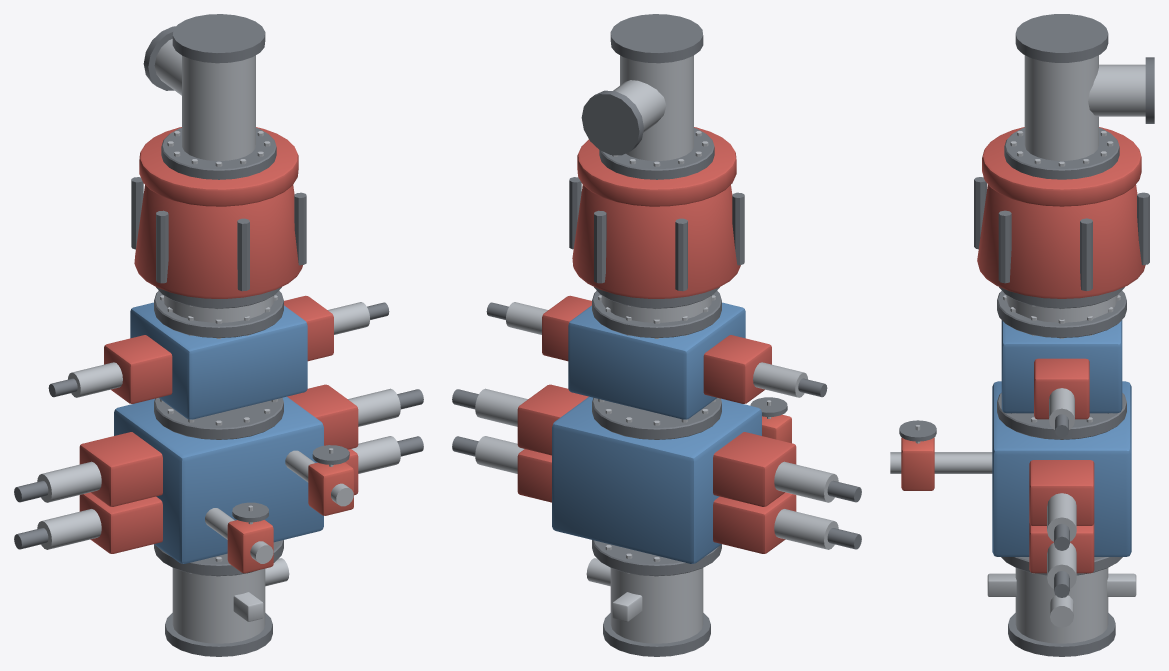
File: bop.glb
3 views of the same model, side by side, from view 1: azimuth 30°, elevation 25°; view 2: azimuth 150°, elevation 25°; view 3: azimuth 270°, elevation 25° (orthographic).
Parts seen in each view (by area): view 1: bop; view 2: bop; view 3: bop.
Part boxes in pixels (x1=…): bop: x1=14, y1=14, x2=423, y2=656; bop: x1=452, y1=14, x2=861, y2=656; bop: x1=890, y1=14, x2=1154, y2=656.
Size of the model in its own units: 5 by 7.18 by 2.85.
